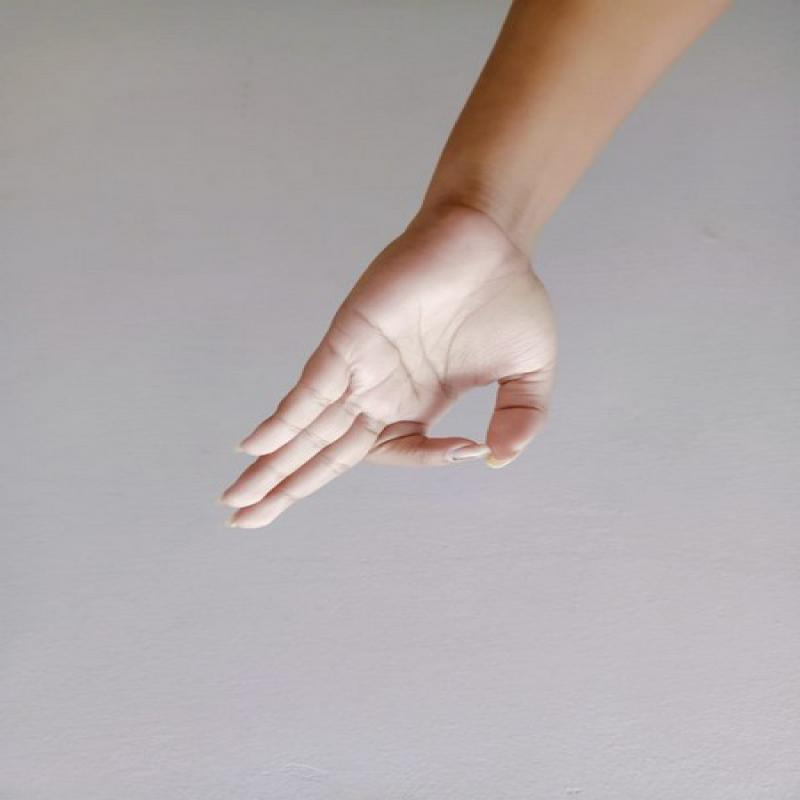Mudraakhyam: (204, 193, 568, 536)
